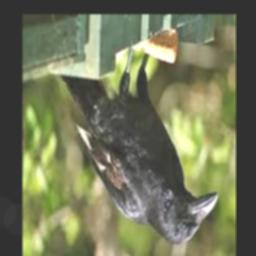Crow: (58, 43, 218, 246)
